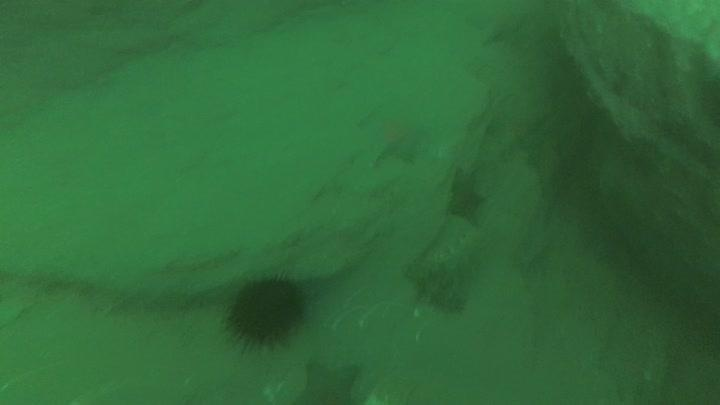echinus: (217, 271, 311, 352)
holothurian: (406, 226, 491, 314)
starfish: (354, 106, 432, 168), (289, 356, 367, 404), (442, 165, 489, 225)
